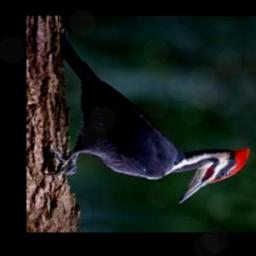Woodpecker: (41, 18, 250, 203)
